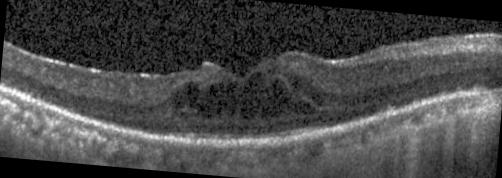intraretinal_cyst: (260, 79, 315, 119), (197, 81, 238, 116), (238, 70, 266, 119), (183, 81, 200, 104), (173, 90, 187, 110), (289, 77, 305, 93), (308, 92, 324, 107)
